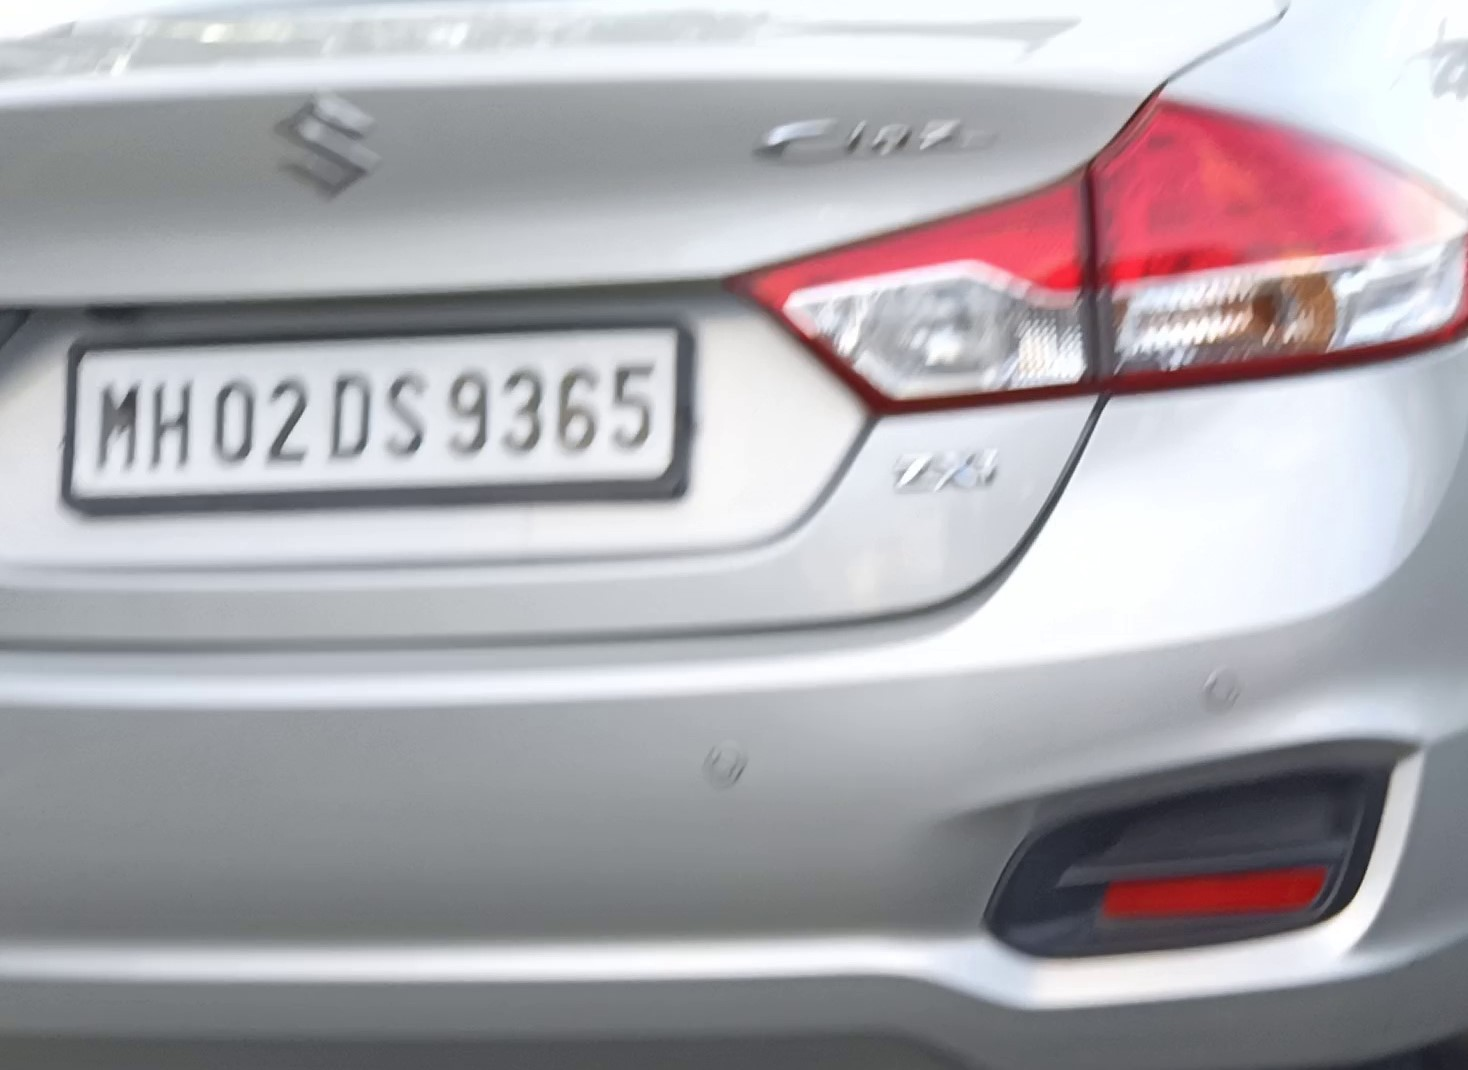MH02DS9365: (70, 321, 676, 497)
